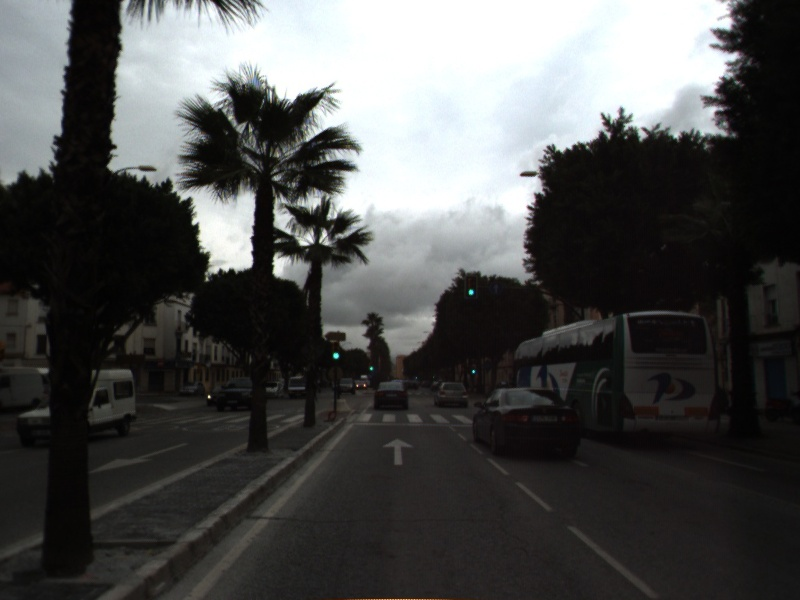STRAIGHT: (380, 436, 416, 466)
